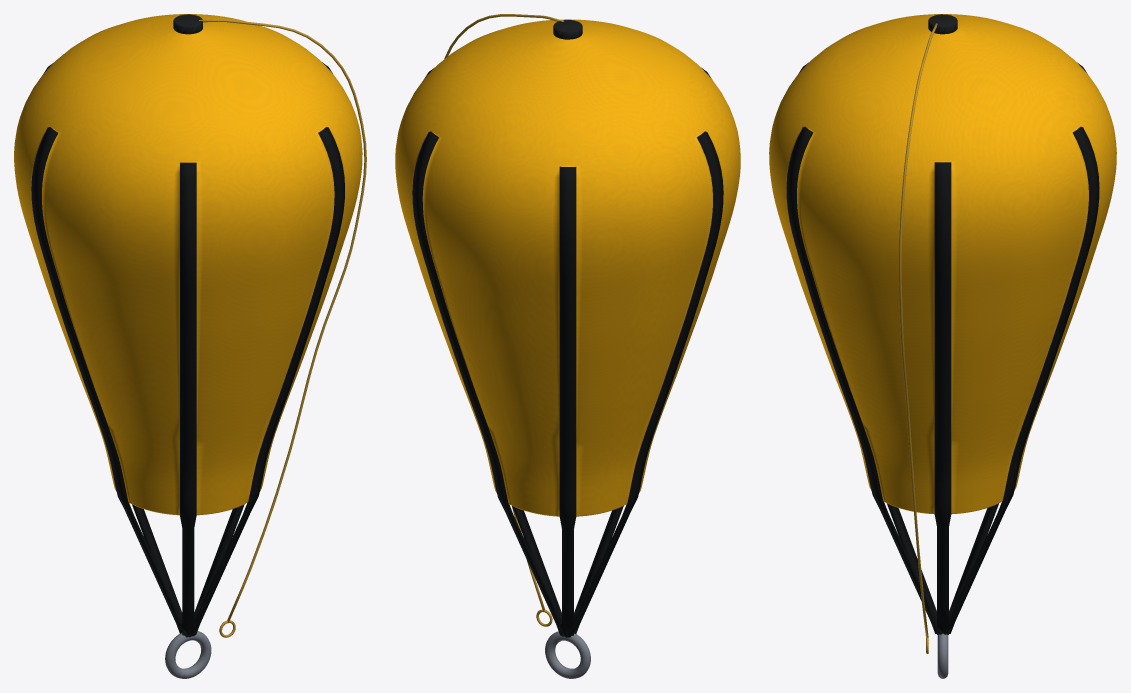
The model's file is NEW691_LiftBag_LOD1.fbx.
The picture shows the model from 3 angles, left to right: view 1: azimuth 30°, elevation 25°; view 2: azimuth 150°, elevation 25°; view 3: azimuth 270°, elevation 25°; orthographic projection.
Visible parts, largest first — view 1: Open_bottom_cloth_with_six_harness_legs, External_dump_pull_line, Single_vertical_metal_load_ring; view 2: Open_bottom_cloth_with_six_harness_legs, Single_vertical_metal_load_ring, External_dump_pull_line, External_top_dump_valve; view 3: Open_bottom_cloth_with_six_harness_legs, External_dump_pull_line, Single_vertical_metal_load_ring.
Part boxes in pixels (bbox=[...]): Open_bottom_cloth_with_six_harness_legs: bbox=[14, 14, 362, 637]; External_dump_pull_line: bbox=[198, 19, 366, 623]; Single_vertical_metal_load_ring: bbox=[165, 631, 211, 678]; Open_bottom_cloth_with_six_harness_legs: bbox=[395, 19, 740, 637]; Single_vertical_metal_load_ring: bbox=[545, 631, 590, 678]; External_dump_pull_line: bbox=[444, 14, 563, 612]; External_top_dump_valve: bbox=[553, 20, 582, 39]; Open_bottom_cloth_with_six_harness_legs: bbox=[769, 14, 1116, 634]; External_dump_pull_line: bbox=[899, 23, 937, 637]; Single_vertical_metal_load_ring: bbox=[937, 633, 948, 678].
Size of the model in its own units: 1.03 by 2.1 by 1.01.
5 materials, 5 textured.
